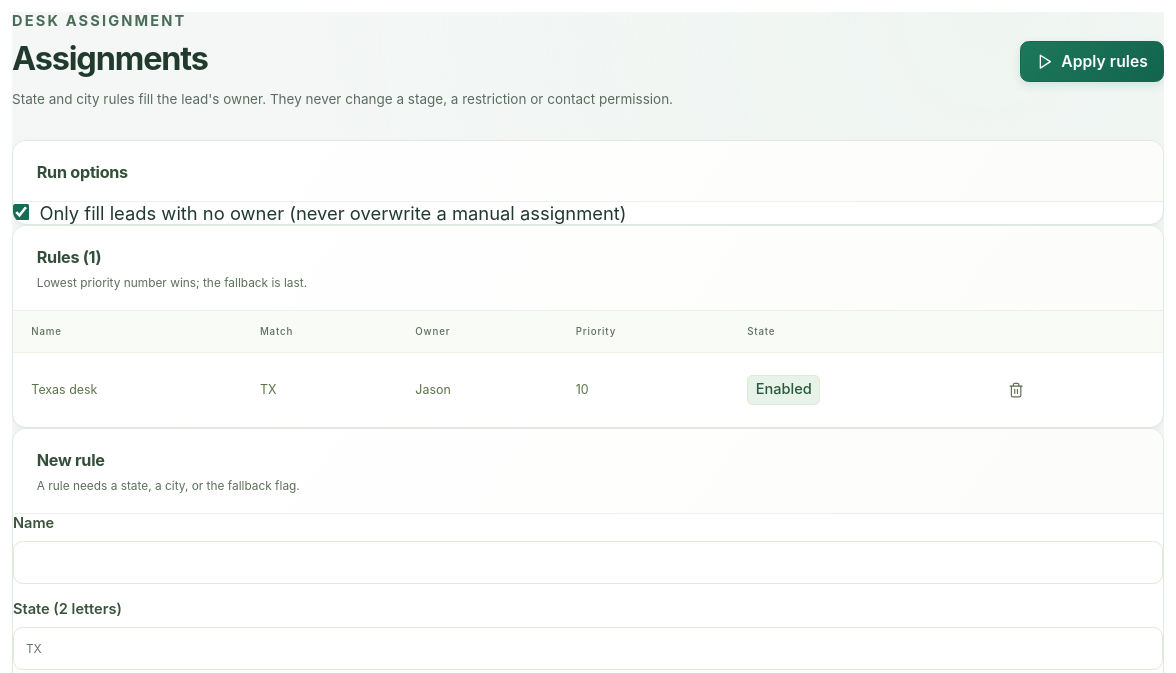
Scenario: assignment › shows the rule and applies it without touching the stage
The width and height of the screenshot is (1176, 673).
Expected: the text "Texas desk" is shown, [13,353,242,427]
What coordinates should you click on to do the following:
click the button "Apply rules"
I would click on:
 (1092, 61)
Its box is [1020,41,1164,82].
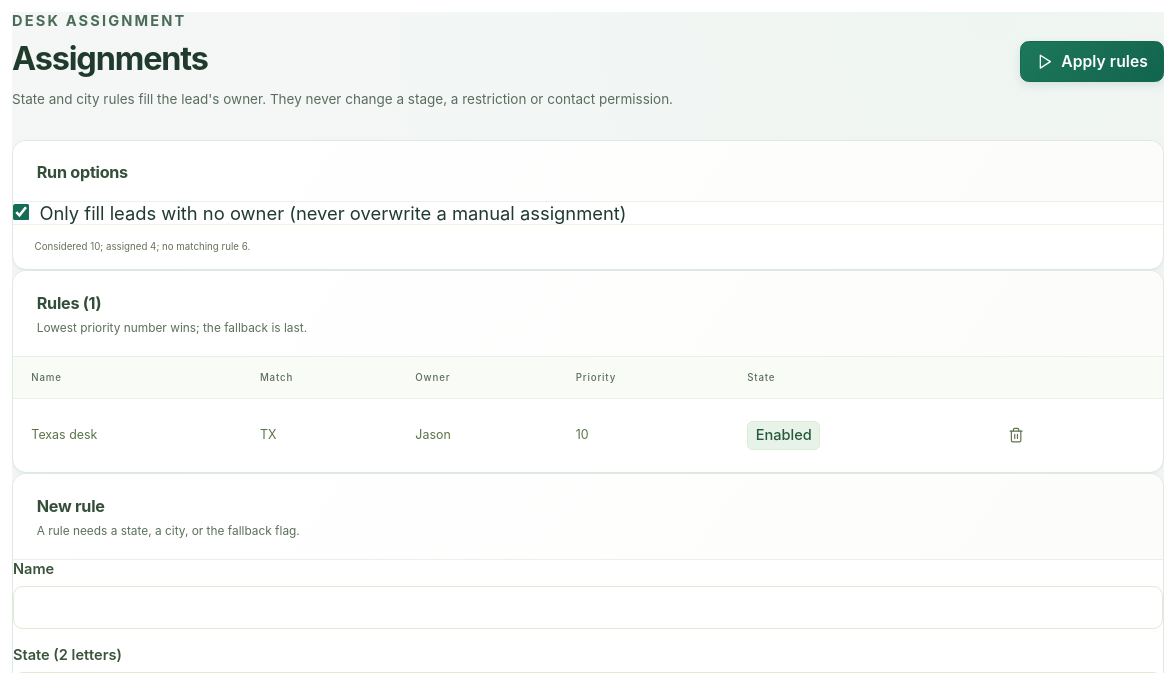
Expected: the text "Considered 10; assigned 4; no matching rule 6." is shown, [13,224,1163,269]
